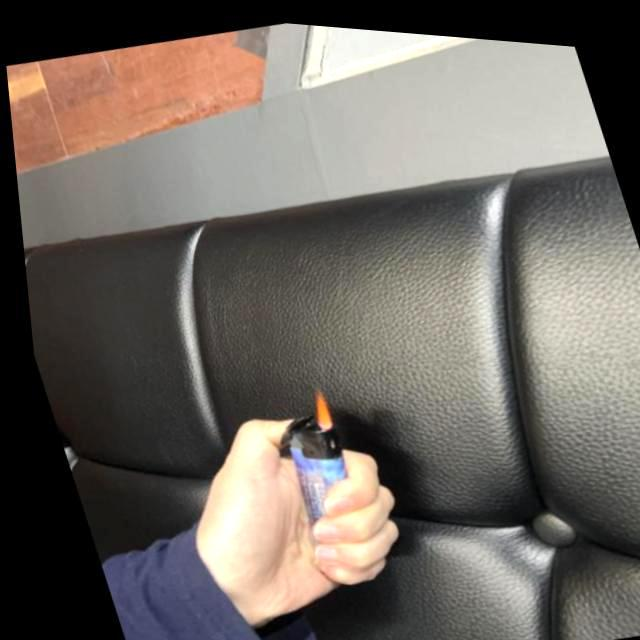fire: (296, 380, 328, 430)
